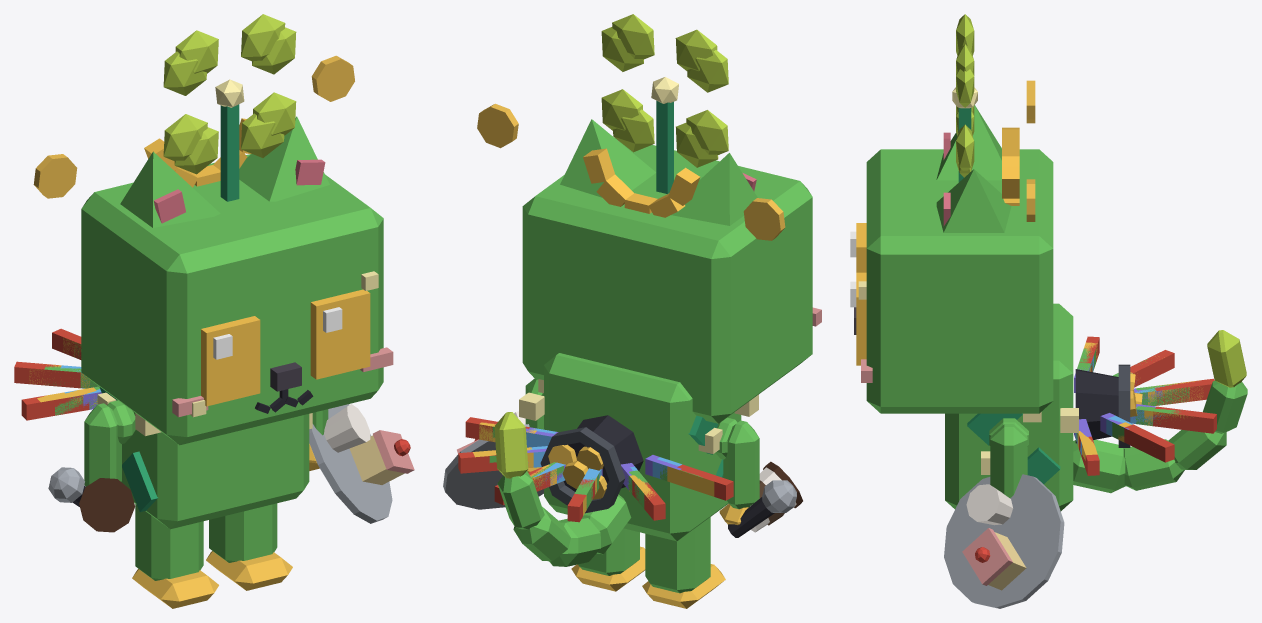
Rendered from CatCafe_Cat_LuckyClover_Work.glb.
3 renders of one model, left to right at view 1: azimuth 30°, elevation 25°; view 2: azimuth 150°, elevation 25°; view 3: azimuth 270°, elevation 25°, orthographic. The views are drawn at different scales.
Visible parts, largest first — view 1: CatCafe_Cat_LuckyClover_Work_Head, CatCafe_Cat_LuckyClover_Work_Body, CatCafe_Cat_LuckyClover_Work_Glow, CatCafe_Cat_LuckyClover_Work_Held_Waiter, CatCafe_Cat_LuckyClover_Work_LegB2, CatCafe_Cat_LuckyClover_Work_LegB1, CatCafe_Cat_LuckyClover_Work_Eye1, CatCafe_Cat_LuckyClover_Work_Eye2, CatCafe_Cat_LuckyClover_Work_EarL, CatCafe_Cat_LuckyClover_Work_Rainbow_Glow, CatCafe_Cat_LuckyClover_Work_EarR, CatCafe_Cat_LuckyClover_Work_Prop (+3 smaller); view 2: CatCafe_Cat_LuckyClover_Work_Head, CatCafe_Cat_LuckyClover_Work_Body, CatCafe_Cat_LuckyClover_Work_Glow, CatCafe_Cat_LuckyClover_Work_Rainbow_Glow, CatCafe_Cat_LuckyClover_Work_Tail, CatCafe_Cat_LuckyClover_Work_LegB2, CatCafe_Cat_LuckyClover_Work_Prop, CatCafe_Cat_LuckyClover_Work_Prop2, CatCafe_Cat_LuckyClover_Work_EarR, CatCafe_Cat_LuckyClover_Work_LegF2, CatCafe_Cat_LuckyClover_Work_EarL, CatCafe_Cat_LuckyClover_Work_LegB1 (+3 smaller); view 3: CatCafe_Cat_LuckyClover_Work_Head, CatCafe_Cat_LuckyClover_Work_Held_Waiter, CatCafe_Cat_LuckyClover_Work_Body, CatCafe_Cat_LuckyClover_Work_Tail, CatCafe_Cat_LuckyClover_Work_Rainbow_Glow, CatCafe_Cat_LuckyClover_Work_Glow, CatCafe_Cat_LuckyClover_Work_EarL, CatCafe_Cat_LuckyClover_Work_Prop2, CatCafe_Cat_LuckyClover_Work_EarR, CatCafe_Cat_LuckyClover_Work_LegF1, CatCafe_Cat_LuckyClover_Work_Prop, CatCafe_Cat_LuckyClover_Work_Eye1 (+1 smaller).
Boxes of the visible parts, x1,y1,x2,y2 form: CatCafe_Cat_LuckyClover_Work_Head: [81, 154, 393, 445]; CatCafe_Cat_LuckyClover_Work_Body: [97, 387, 312, 529]; CatCafe_Cat_LuckyClover_Work_Glow: [33, 14, 354, 198]; CatCafe_Cat_LuckyClover_Work_Held_Waiter: [309, 404, 414, 523]; CatCafe_Cat_LuckyClover_Work_LegB2: [132, 504, 218, 608]; CatCafe_Cat_LuckyClover_Work_LegB1: [206, 503, 292, 590]; CatCafe_Cat_LuckyClover_Work_Eye1: [310, 289, 370, 379]; CatCafe_Cat_LuckyClover_Work_Eye2: [201, 316, 260, 406]; CatCafe_Cat_LuckyClover_Work_EarL: [239, 116, 329, 201]; CatCafe_Cat_LuckyClover_Work_Rainbow_Glow: [14, 328, 101, 420]; CatCafe_Cat_LuckyClover_Work_EarR: [120, 151, 220, 227]; CatCafe_Cat_LuckyClover_Work_Prop: [144, 104, 251, 201]; CatCafe_Cat_LuckyClover_Work_Head: [522, 138, 821, 423]; CatCafe_Cat_LuckyClover_Work_Body: [519, 353, 758, 541]; CatCafe_Cat_LuckyClover_Work_Glow: [477, 14, 785, 240]; CatCafe_Cat_LuckyClover_Work_Rainbow_Glow: [458, 417, 733, 522]; CatCafe_Cat_LuckyClover_Work_Tail: [494, 412, 631, 566]; CatCafe_Cat_LuckyClover_Work_LegB2: [642, 517, 725, 608]; CatCafe_Cat_LuckyClover_Work_Prop: [583, 100, 700, 217]; CatCafe_Cat_LuckyClover_Work_Prop2: [540, 415, 643, 513]; CatCafe_Cat_LuckyClover_Work_EarR: [671, 153, 757, 225]; CatCafe_Cat_LuckyClover_Work_LegF2: [719, 420, 759, 524]; CatCafe_Cat_LuckyClover_Work_EarL: [560, 119, 655, 197]; CatCafe_Cat_LuckyClover_Work_LegB1: [571, 528, 645, 591]; CatCafe_Cat_LuckyClover_Work_Head: [854, 149, 1053, 413]; CatCafe_Cat_LuckyClover_Work_Held_Waiter: [944, 474, 1064, 608]; CatCafe_Cat_LuckyClover_Work_Body: [945, 303, 1078, 511]; CatCafe_Cat_LuckyClover_Work_Tail: [1073, 330, 1247, 493]; CatCafe_Cat_LuckyClover_Work_Rainbow_Glow: [1074, 336, 1216, 475]; CatCafe_Cat_LuckyClover_Work_Glow: [952, 14, 1035, 221]; CatCafe_Cat_LuckyClover_Work_EarL: [936, 169, 1011, 232]; CatCafe_Cat_LuckyClover_Work_Prop2: [1075, 364, 1130, 447]; CatCafe_Cat_LuckyClover_Work_EarR: [936, 105, 1001, 180]; CatCafe_Cat_LuckyClover_Work_LegF1: [990, 424, 1027, 497]; CatCafe_Cat_LuckyClover_Work_Prop: [958, 108, 1019, 205]; CatCafe_Cat_LuckyClover_Work_Eye1: [850, 272, 866, 365].
Size of the model in its own units: 1.54 by 2.41 by 1.62.
Materials: 1 (1 with a texture image).
